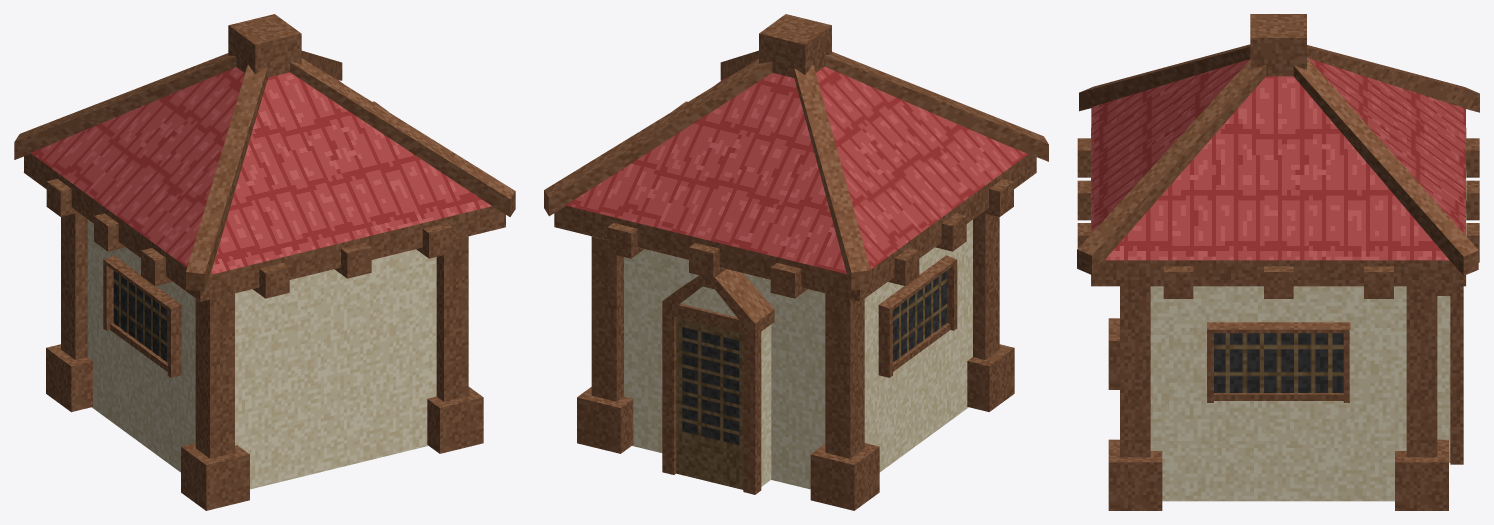
Rendered from CasaModeloBJapon.fbx.
3 views of the same model, side by side, from view 1: azimuth 30°, elevation 25°; view 2: azimuth 150°, elevation 25°; view 3: azimuth 270°, elevation 25° (orthographic). The views are drawn at different scales.
Visible parts, largest first — view 1: CasaModeloB; view 2: CasaModeloB; view 3: CasaModeloB.
Boxes of the visible parts, left/top/right/bottom form: CasaModeloB: left=14, top=14, right=515, bottom=510; CasaModeloB: left=544, top=14, right=1048, bottom=510; CasaModeloB: left=1077, top=14, right=1479, bottom=510.
Size of the model in its own units: 2.14 by 2.13 by 2.42.
Materials: 1 (1 with a texture image).
